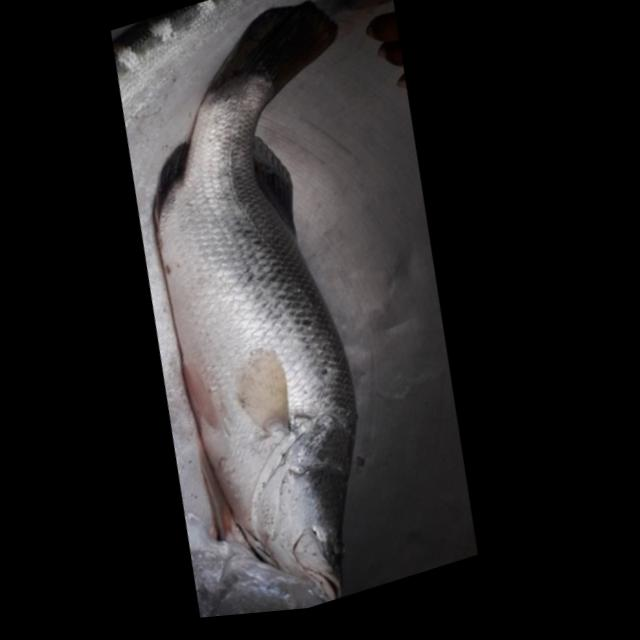Seabass: (85, 0, 467, 628)
